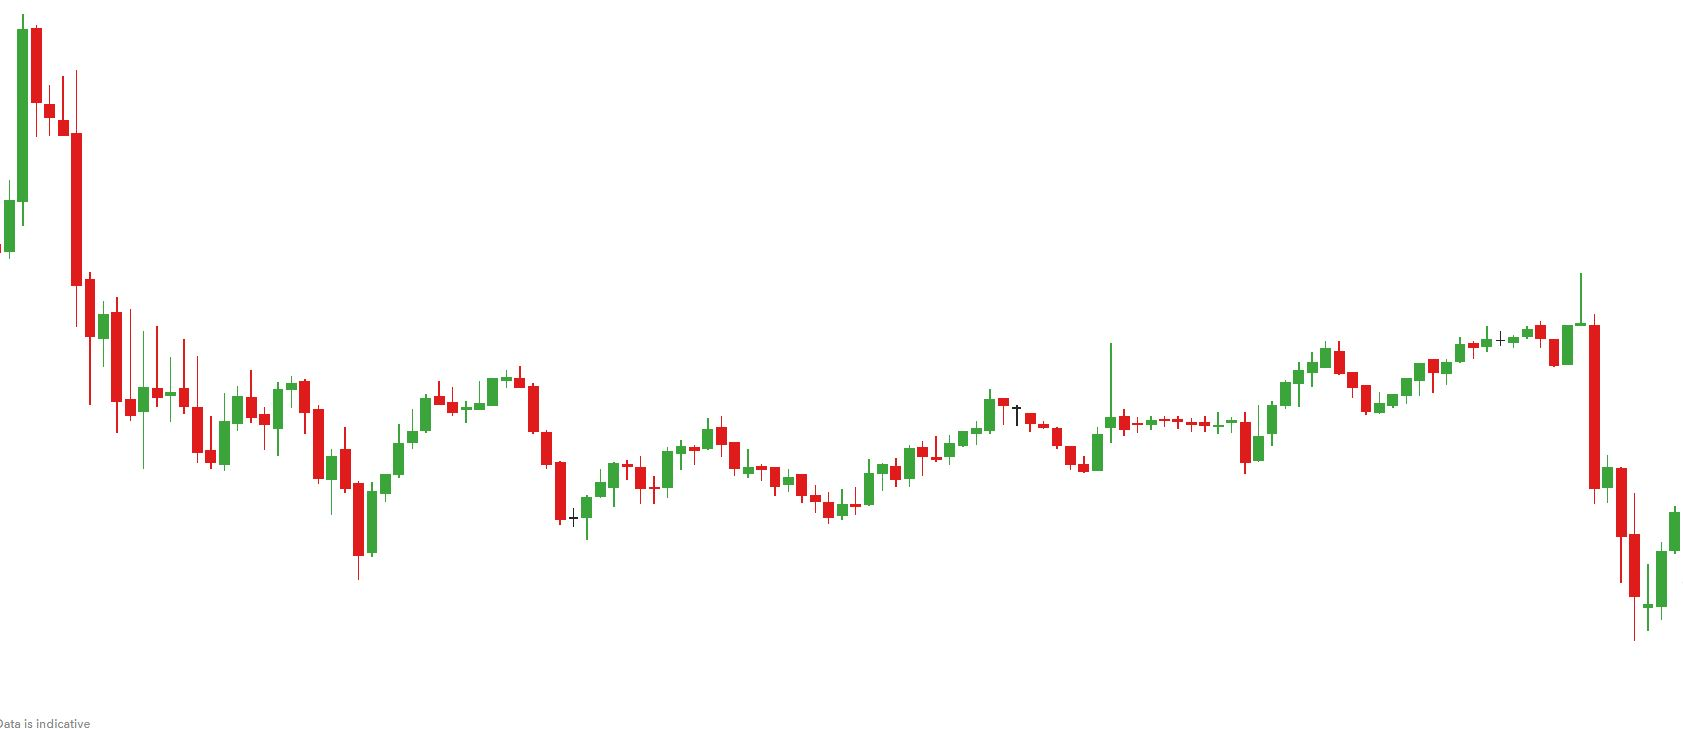sell: (981, 339, 1118, 449)
